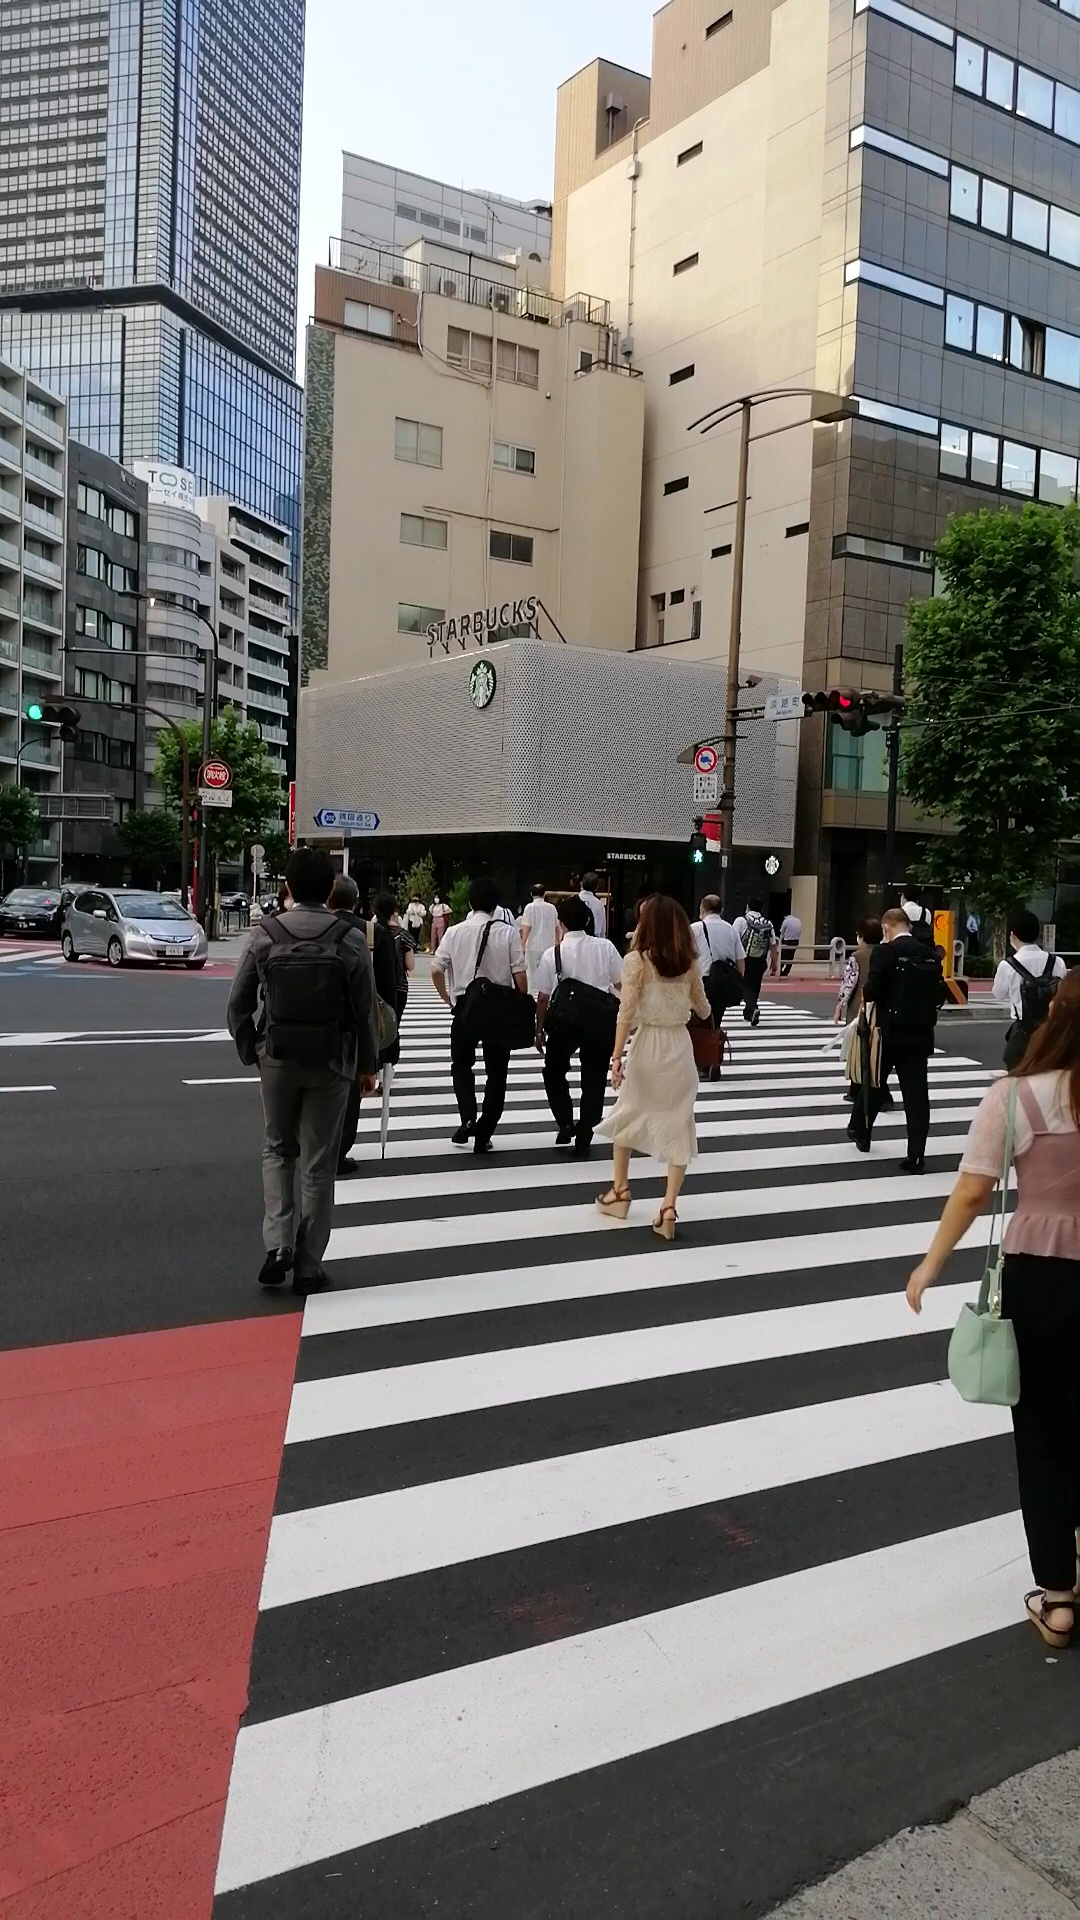green: (688, 833, 705, 868)
